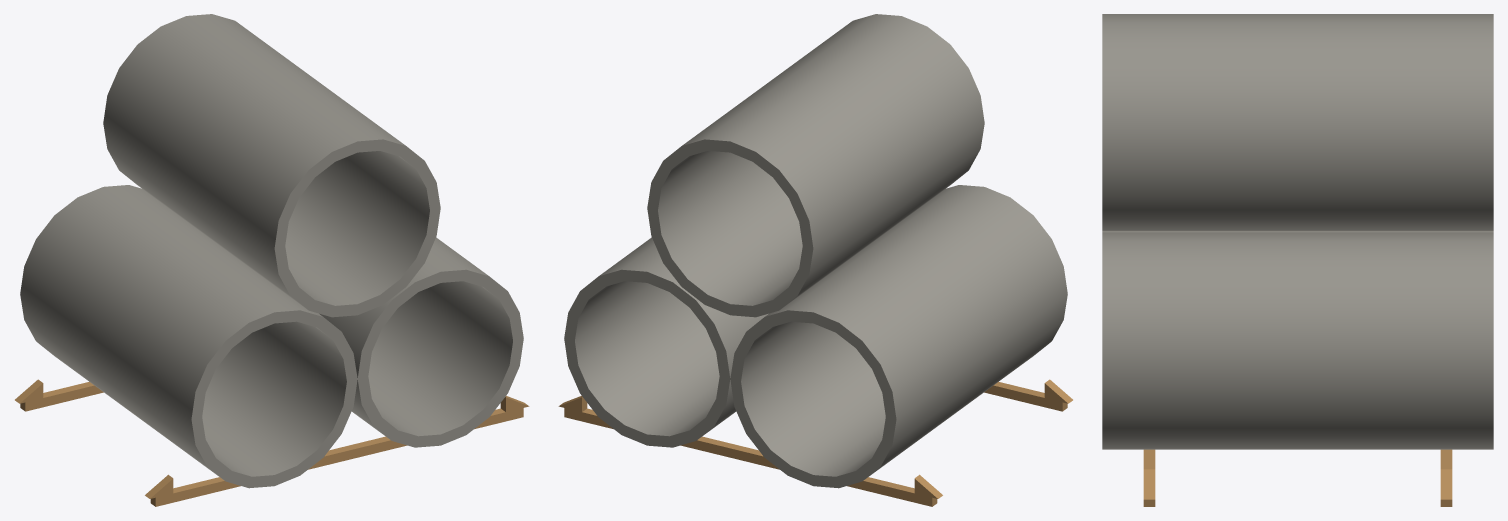
The model's file is plant.store.concrete_pipes_large.glb.
3 renders of one model, left to right at view 1: azimuth 30°, elevation 25°; view 2: azimuth 150°, elevation 25°; view 3: azimuth 270°, elevation 25°, orthographic. The views are drawn at different scales.
Visible parts, largest first — view 1: main__concrete, main__softwood; view 2: main__concrete, main__softwood; view 3: main__concrete, main__softwood.
Part boxes in pixels (x1,y1,x2,y2): main__concrete: (20, 14, 523, 488); main__softwood: (15, 379, 529, 506); main__concrete: (564, 14, 1067, 488); main__softwood: (558, 379, 1072, 506); main__concrete: (1102, 14, 1493, 449); main__softwood: (1143, 449, 1452, 506).
Size of the model in its own units: 3.2 by 2.69 by 2.5.
